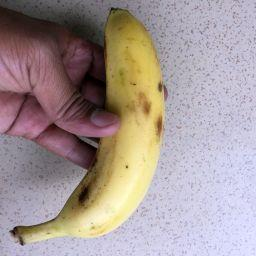Banana Ripe: (16, 5, 174, 238)
